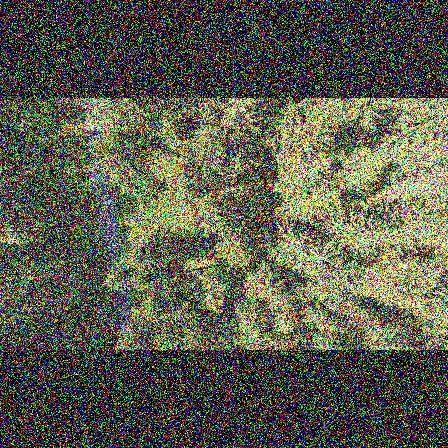Sick: (304, 245, 340, 271), (227, 134, 251, 160)
